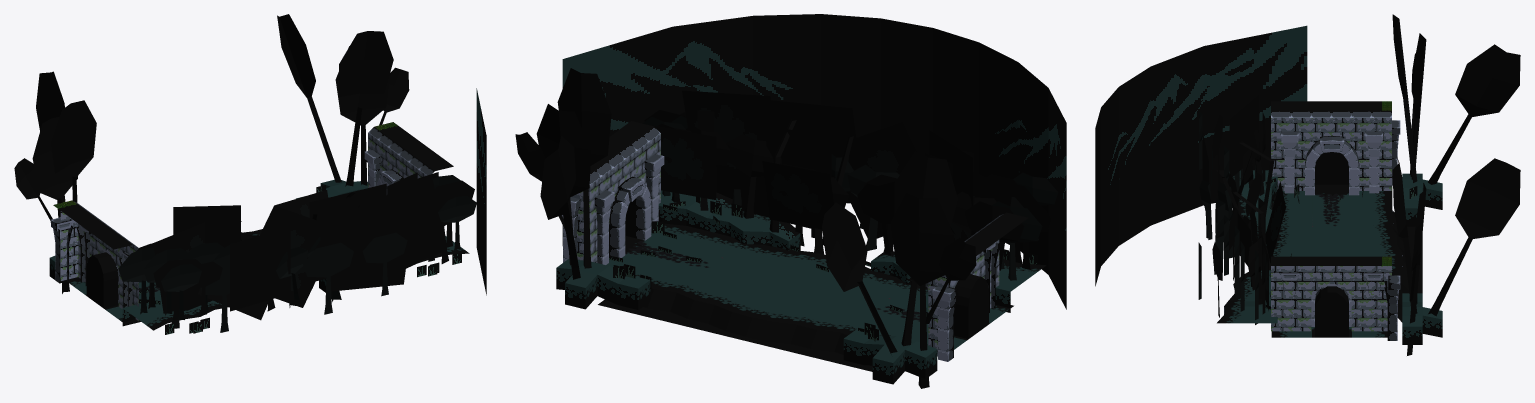
File: map.glb
3 views of the same model, side by side, from view 1: azimuth 30°, elevation 25°; view 2: azimuth 150°, elevation 25°; view 3: azimuth 270°, elevation 25° (orthographic). The views are drawn at different scales.
Parts seen in each view (by area): view 1: map; view 2: map; view 3: map.
Boxes of the visible parts, left/top/right/bottom form: map: left=14, top=14, right=486, bottom=334; map: left=515, top=14, right=1066, bottom=388; map: left=1095, top=14, right=1520, bottom=355.
Size of the model in its own units: 48.01 by 21.64 by 42.24.
Materials: 1 (1 with a texture image).
